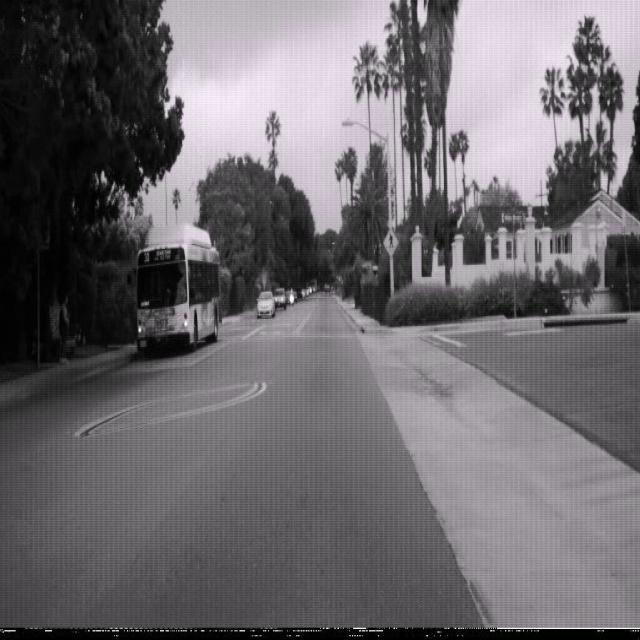pedestrianCrossing: (382, 227, 398, 257)
